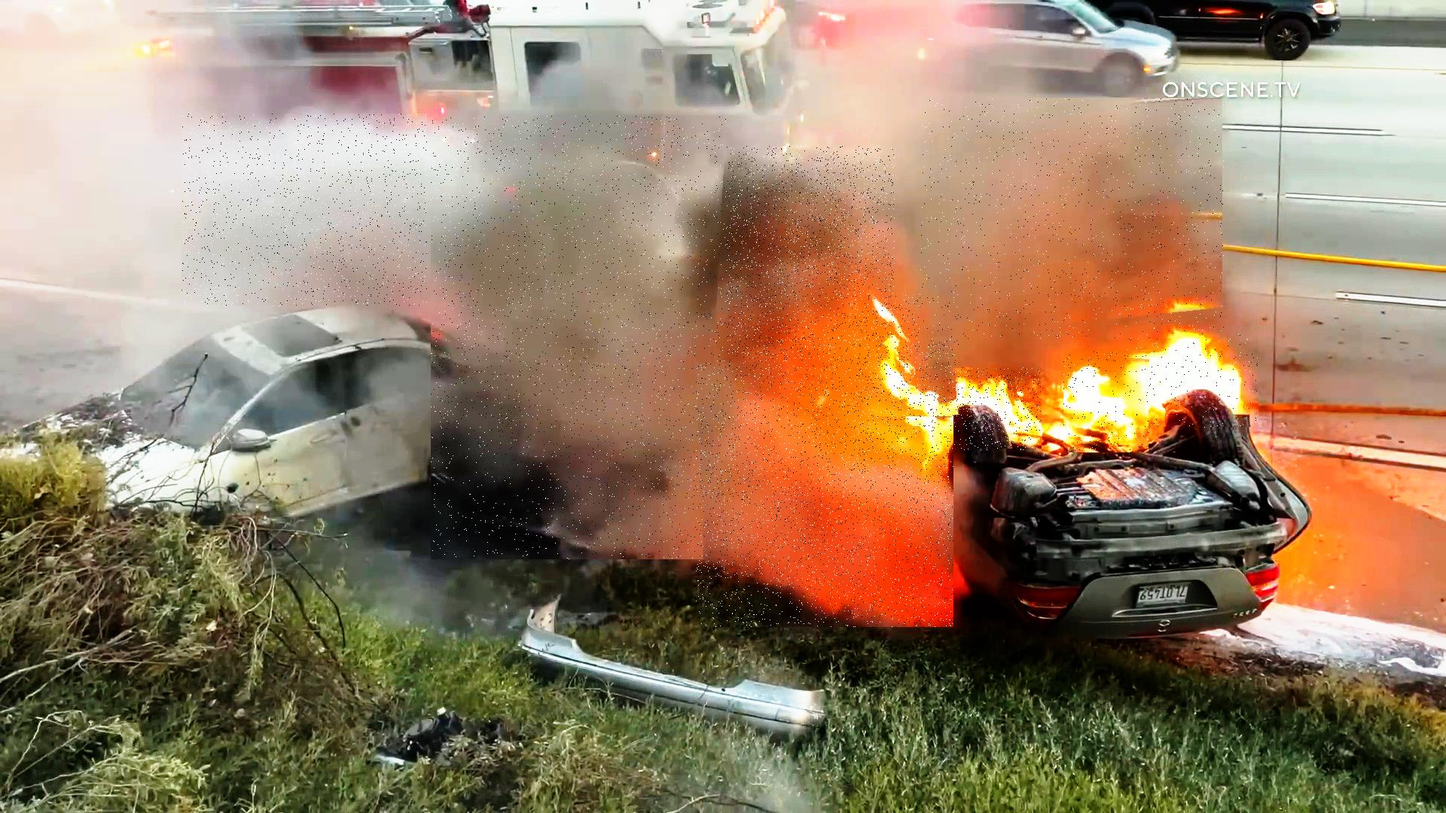fire: (1124, 333, 1259, 429), (858, 291, 959, 416), (1064, 352, 1151, 453), (954, 368, 1042, 451)
smoke: (431, 116, 727, 559), (921, 98, 1224, 339), (696, 362, 953, 627), (672, 146, 895, 365), (182, 114, 427, 307)
